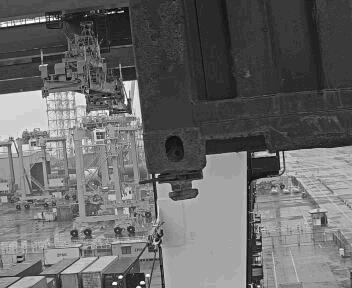twist_lock_1: (174, 164, 232, 202)
